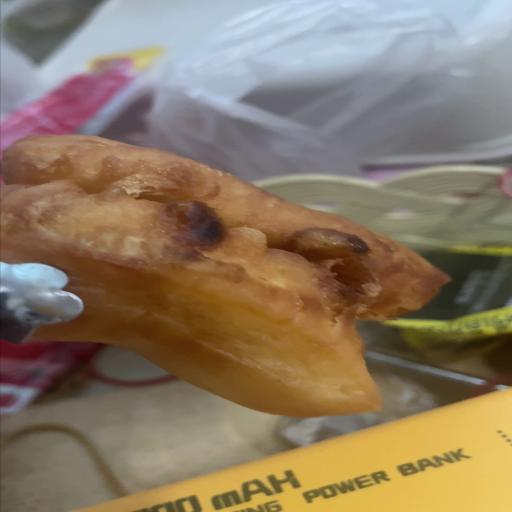street_burnt_defect: (0, 135, 447, 417)
